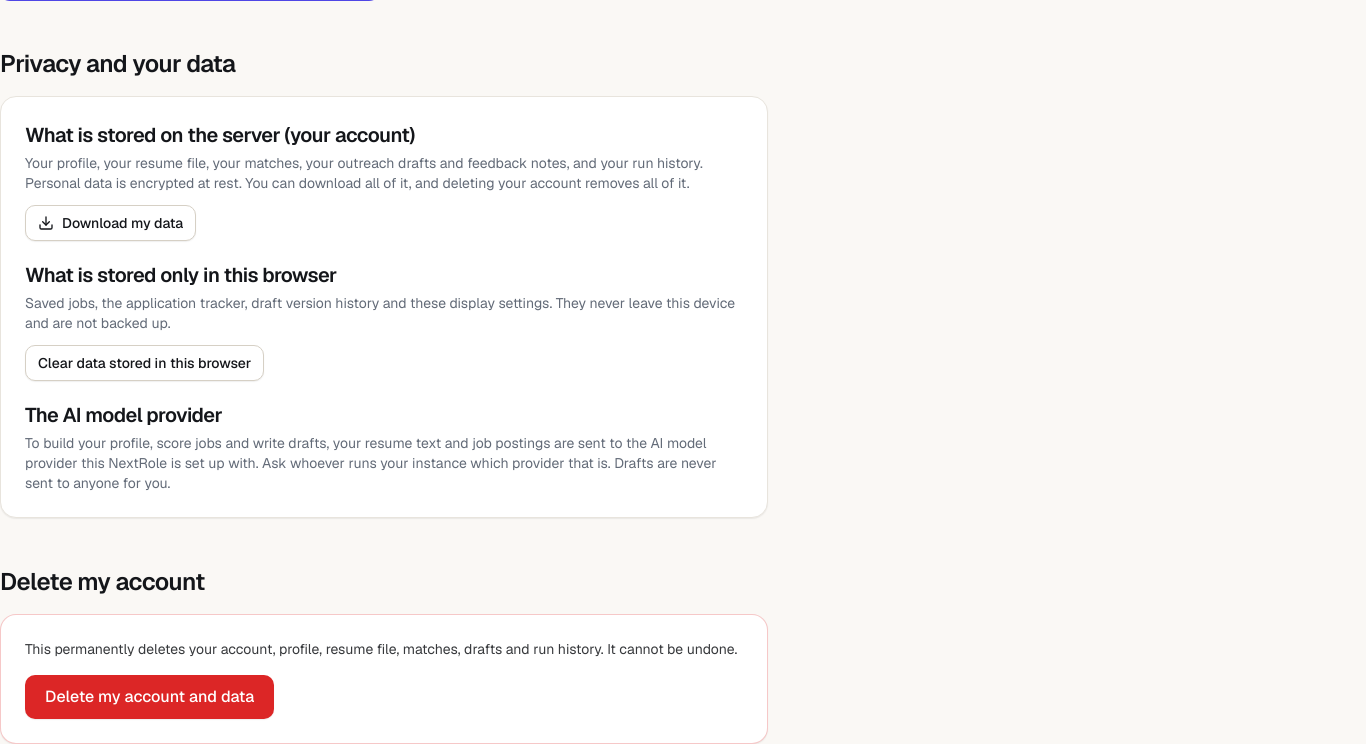
Test case: Settings › keeps the user here and explains when deletion fails
(page scrolled)
Click the button "Delete my account and data" at (150, 697), box x1=25 y1=675 x2=274 y2=719
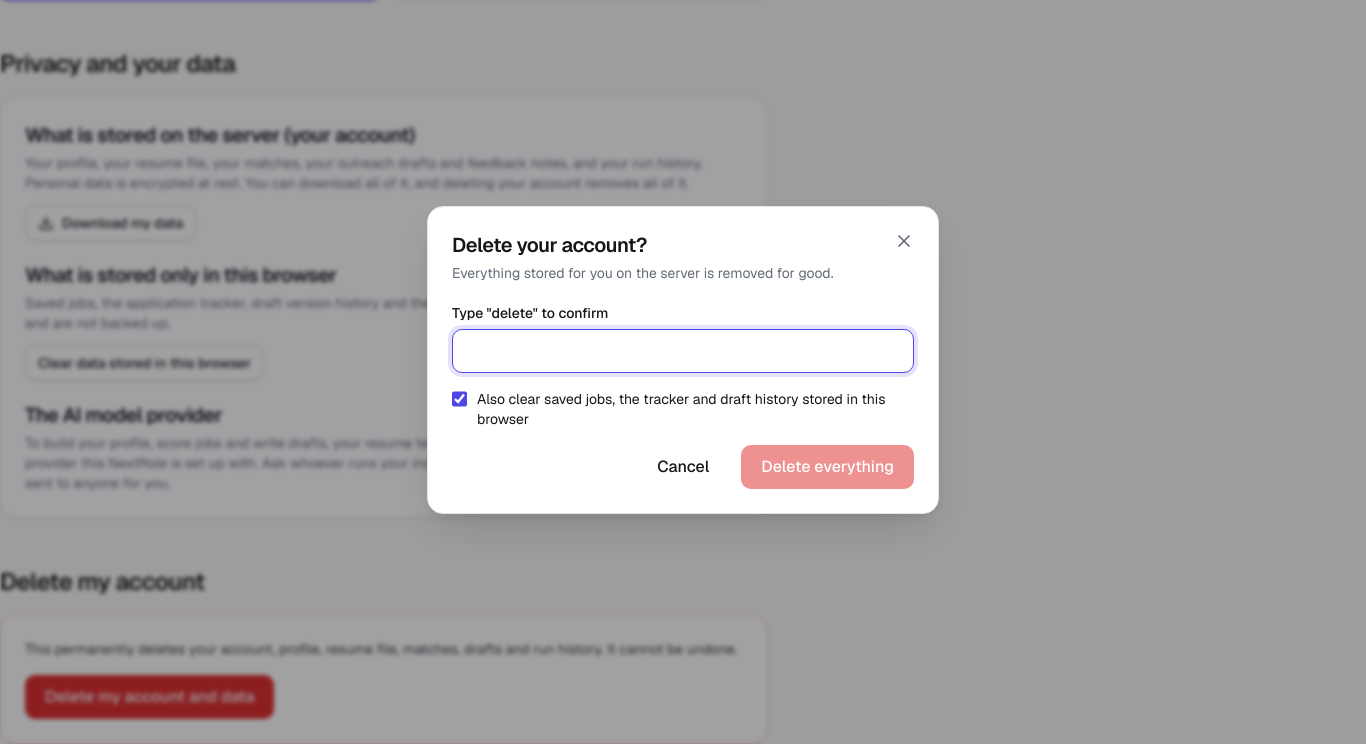
Type "delete" into the field labelled "Type \"delete\" to confirm" at (683, 351), box x1=452 y1=329 x2=914 y2=373
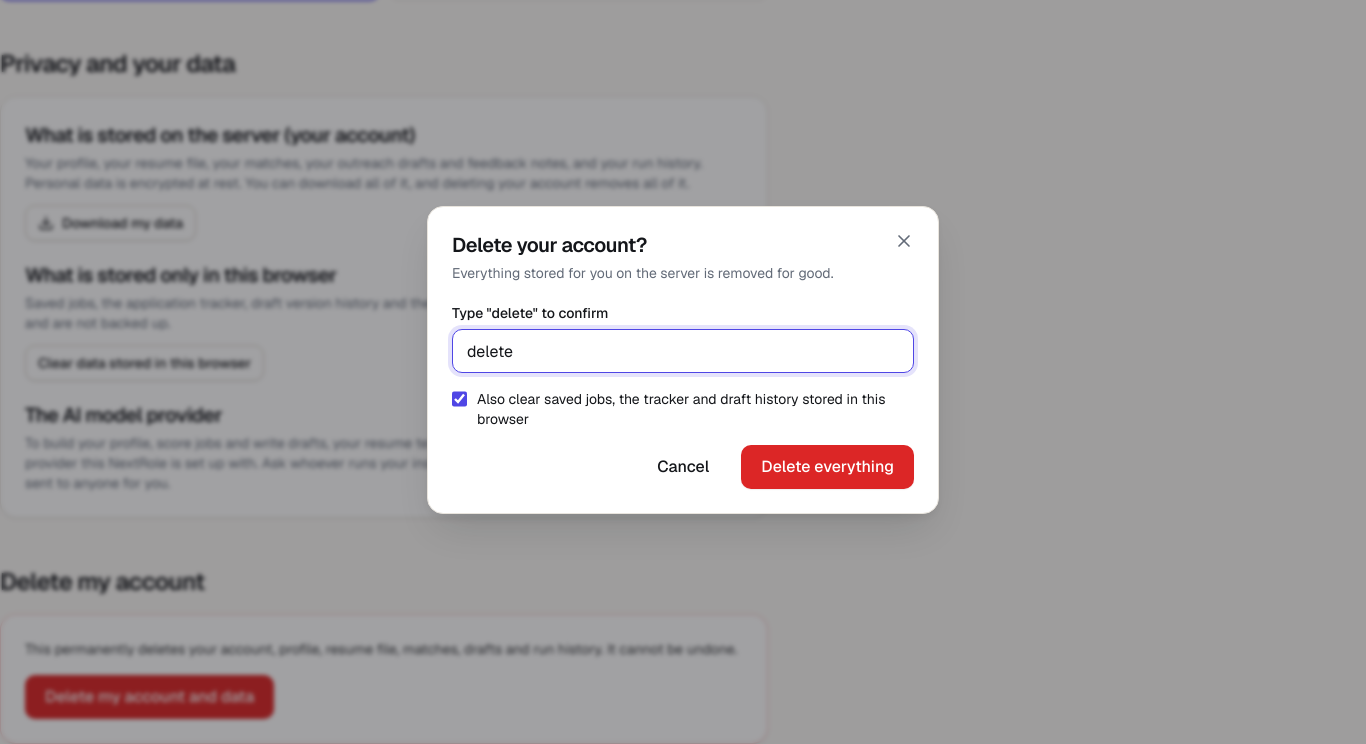
Click the button "Delete everything" at (828, 467), box x1=741 y1=445 x2=914 y2=489
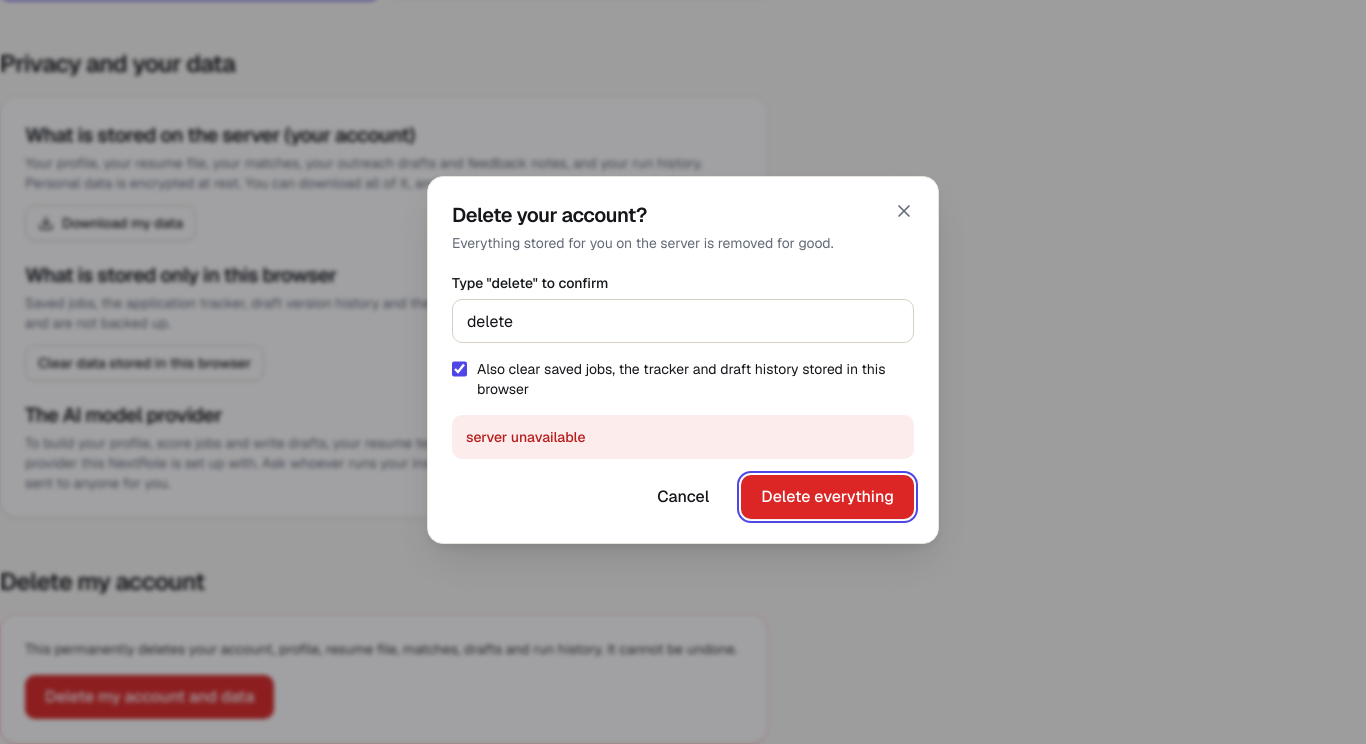
expect the message reads "server unavailable": met, box x1=466 y1=428 x2=586 y2=446
